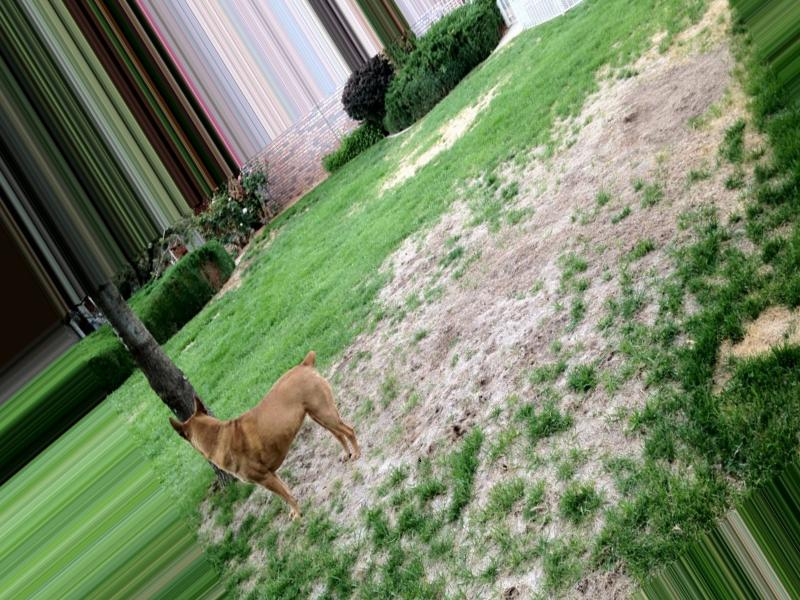patch: (365, 384, 621, 548), (420, 232, 625, 400), (576, 101, 749, 224), (417, 115, 482, 148)
